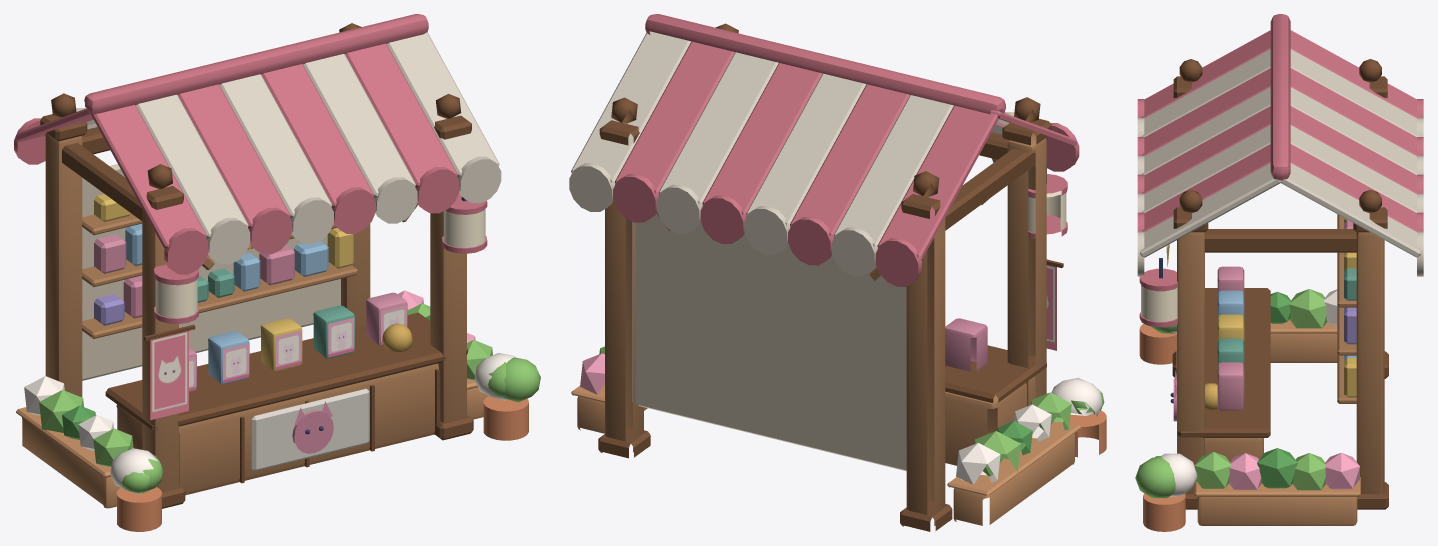
File: ac_booth_r0.glb
3 renders of one model, left to right at view 1: azimuth 30°, elevation 25°; view 2: azimuth 150°, elevation 25°; view 3: azimuth 270°, elevation 25°, orthographic. The views are drawn at different scales.
Parts seen in each view (by area): view 1: body, nomask; view 2: body, nomask; view 3: body, nomask.
Boxes of the visible parts, x1,y1,x2,y2 form: body: [14, 14, 501, 508]; nomask: [16, 290, 540, 531]; body: [569, 14, 1079, 531]; nomask: [571, 346, 1106, 525]; body: [1137, 14, 1423, 509]; nomask: [1135, 289, 1360, 531].
Bounding box in the file's own units: 6.72 × 5.81 × 4.34.
5 materials, 2 textured.
